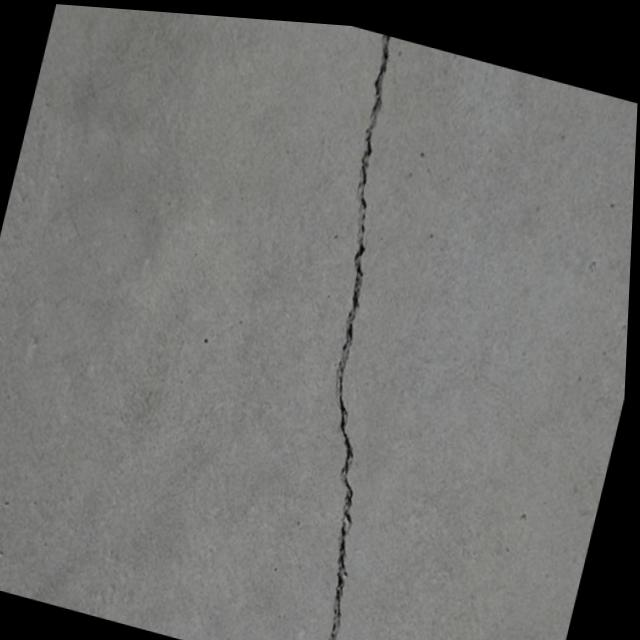Crack: (233, 20, 483, 640)
